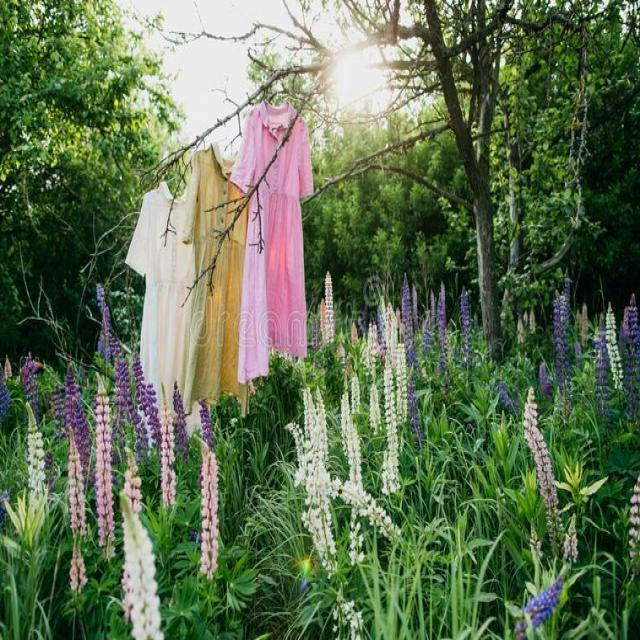clothes: (131, 168, 331, 394)
